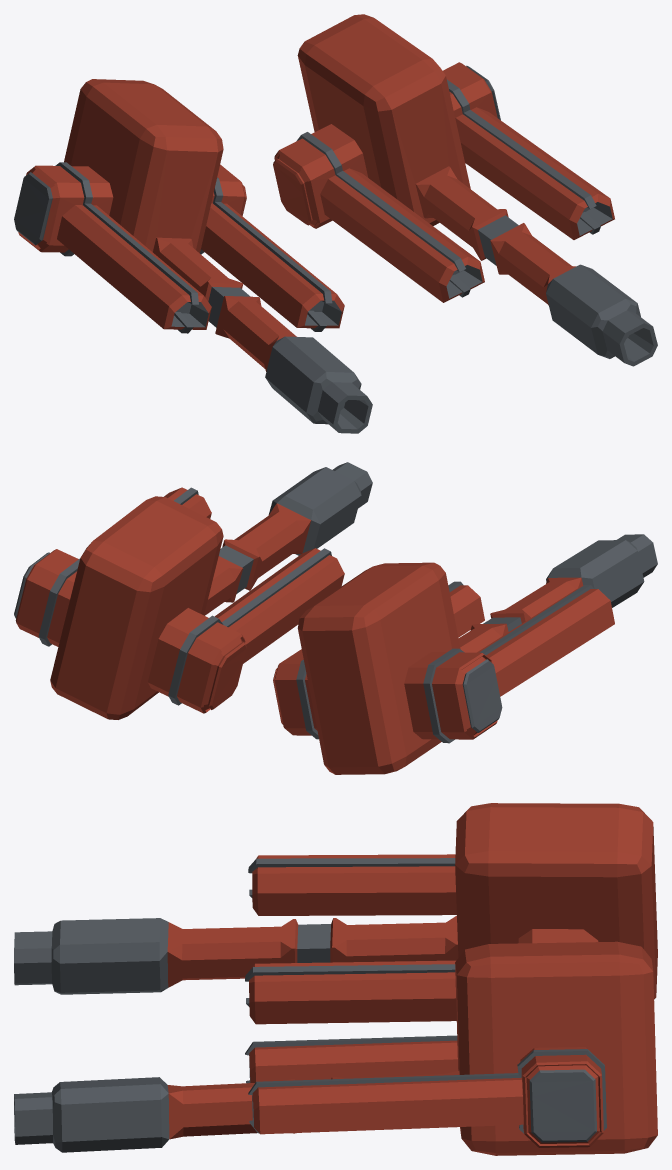
Rendered from Fighter_09_Artillery_Red.fbx.
The picture shows the model from 3 angles, top to bottom: view 1: azimuth 30°, elevation 25°; view 2: azimuth 150°, elevation 25°; view 3: azimuth 270°, elevation 25°; orthographic projection. The views are drawn at different scales.
Parts seen in each view (by area): view 1: Fighter_09_Artillery_Red; view 2: Fighter_09_Artillery_Red; view 3: Fighter_09_Artillery_Red.
Boxes of the visible parts, x1=… form: Fighter_09_Artillery_Red: x1=14, y1=14, x2=657, y2=433; Fighter_09_Artillery_Red: x1=14, y1=462, x2=657, y2=774; Fighter_09_Artillery_Red: x1=14, y1=803, x2=657, y2=1155.
Size of the model in its own units: 303 by 106 by 315.
1 material, 1 textured.
